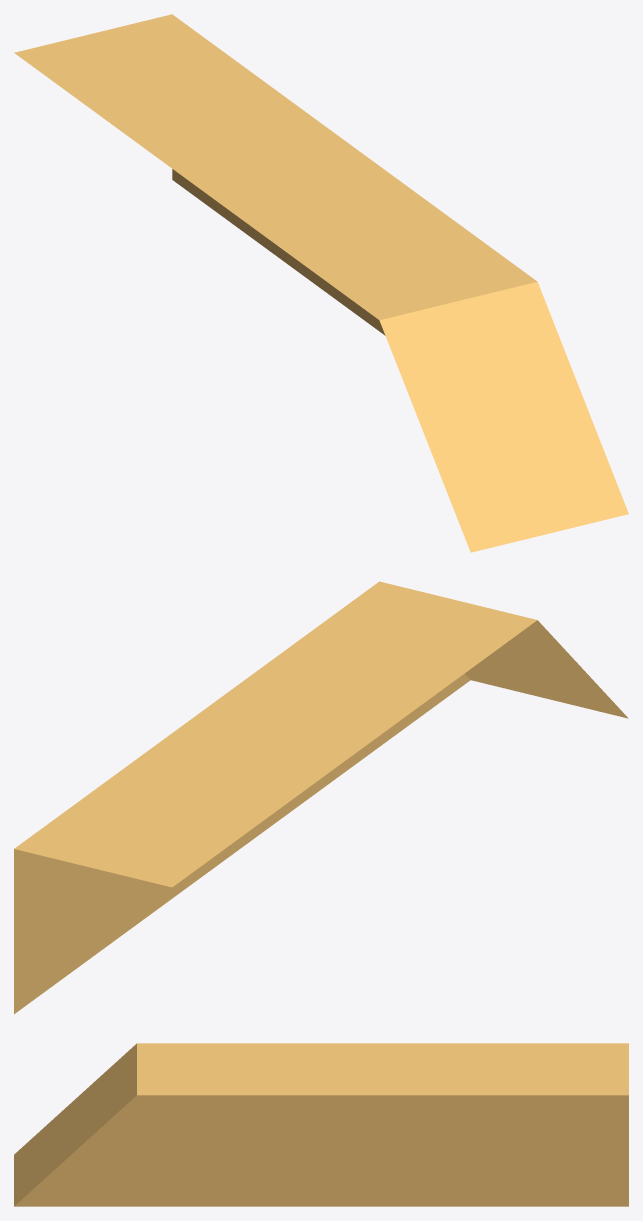
The picture shows the model from 3 angles, top to bottom: view 1: azimuth 30°, elevation 25°; view 2: azimuth 150°, elevation 25°; view 3: azimuth 270°, elevation 25°; orthographic projection. The views are drawn at different scales.
Bounding box in the file's own units: 0.1 × 0.1 × 0.5.
